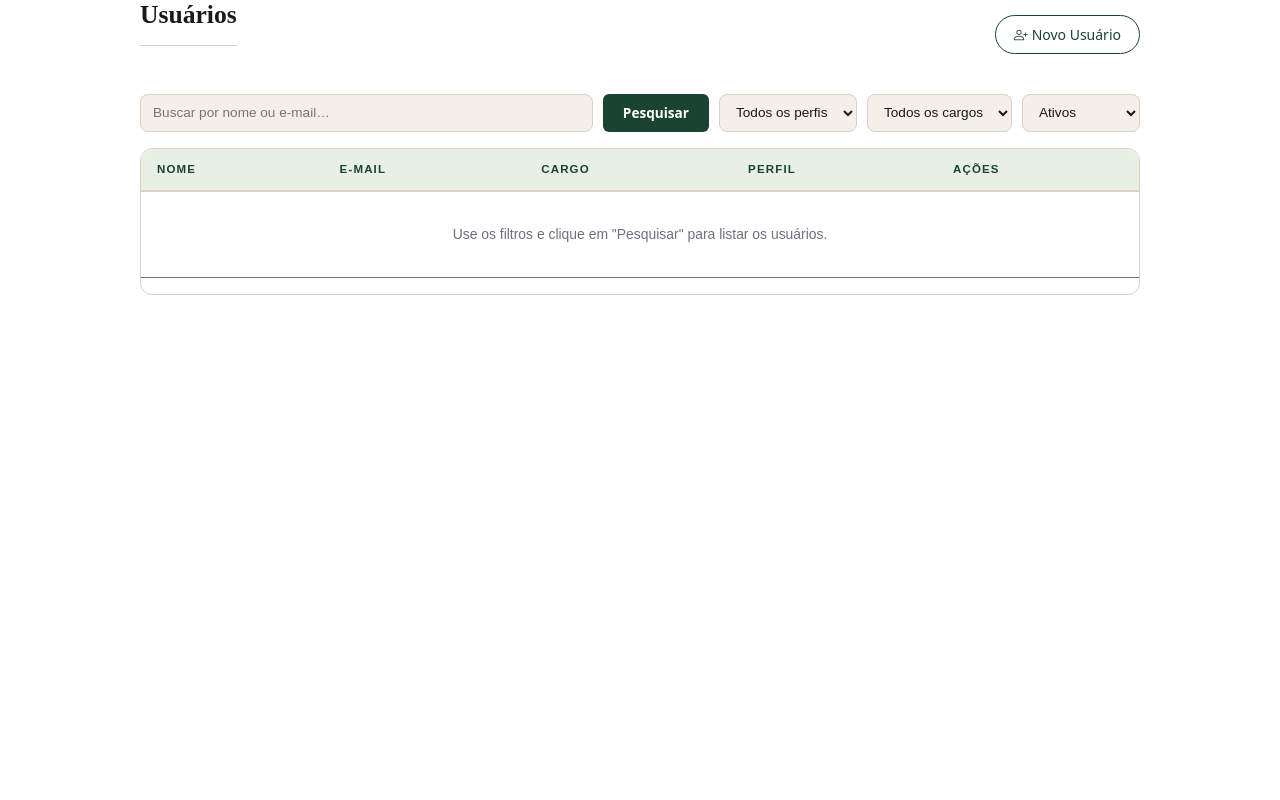
UserList — restaurar desacoplado do e-mail › excluído COM e-mail abre o ModalConfirm de restauração
Select "Excluídos" in the 3rd dropdown at coordinates (1081, 113), box [1022, 94, 1140, 132]
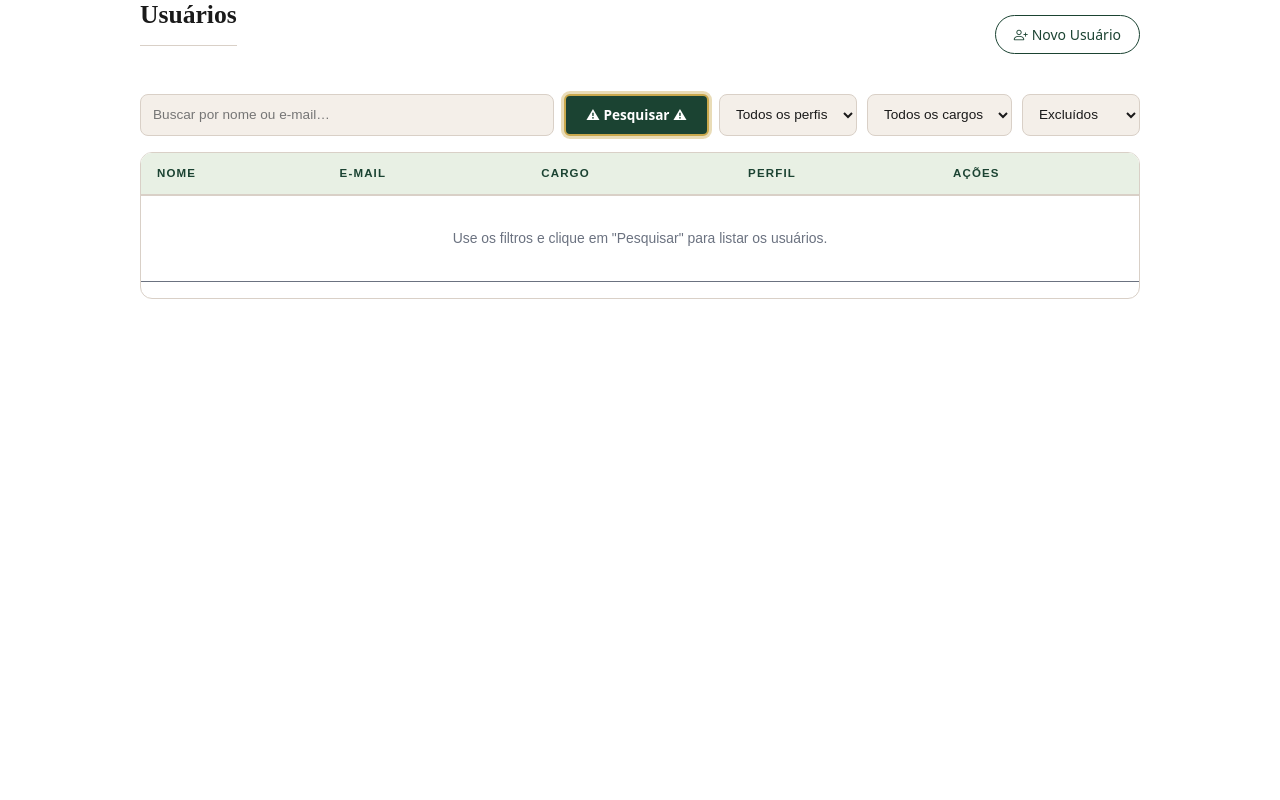
Click the button with class "user-list-btn-filtrar" at coordinates (636, 115), box [564, 94, 709, 136]
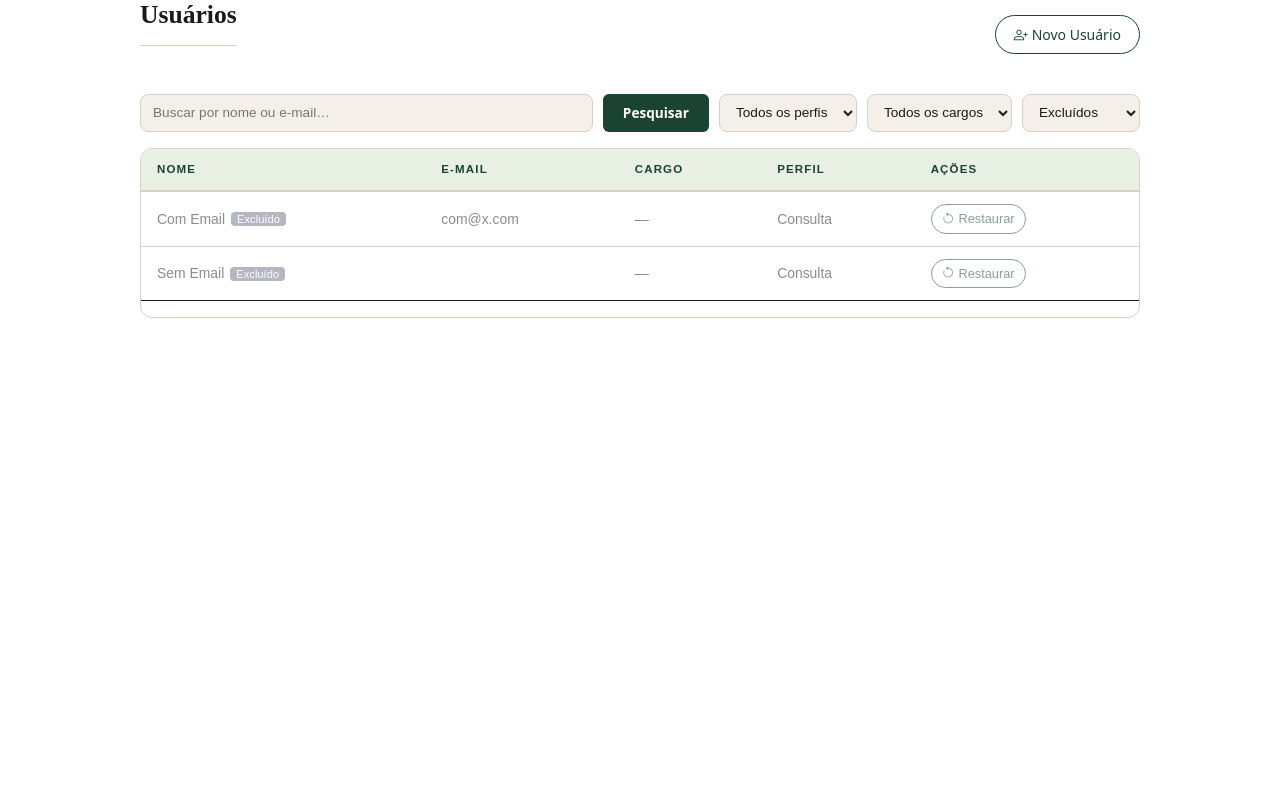
Now the text "Com Email" is shown, box [157, 210, 225, 226]
Click the button with class "btn-acao-editar" in the row of "Com Email" at coordinates (978, 219), box [931, 204, 1026, 234]
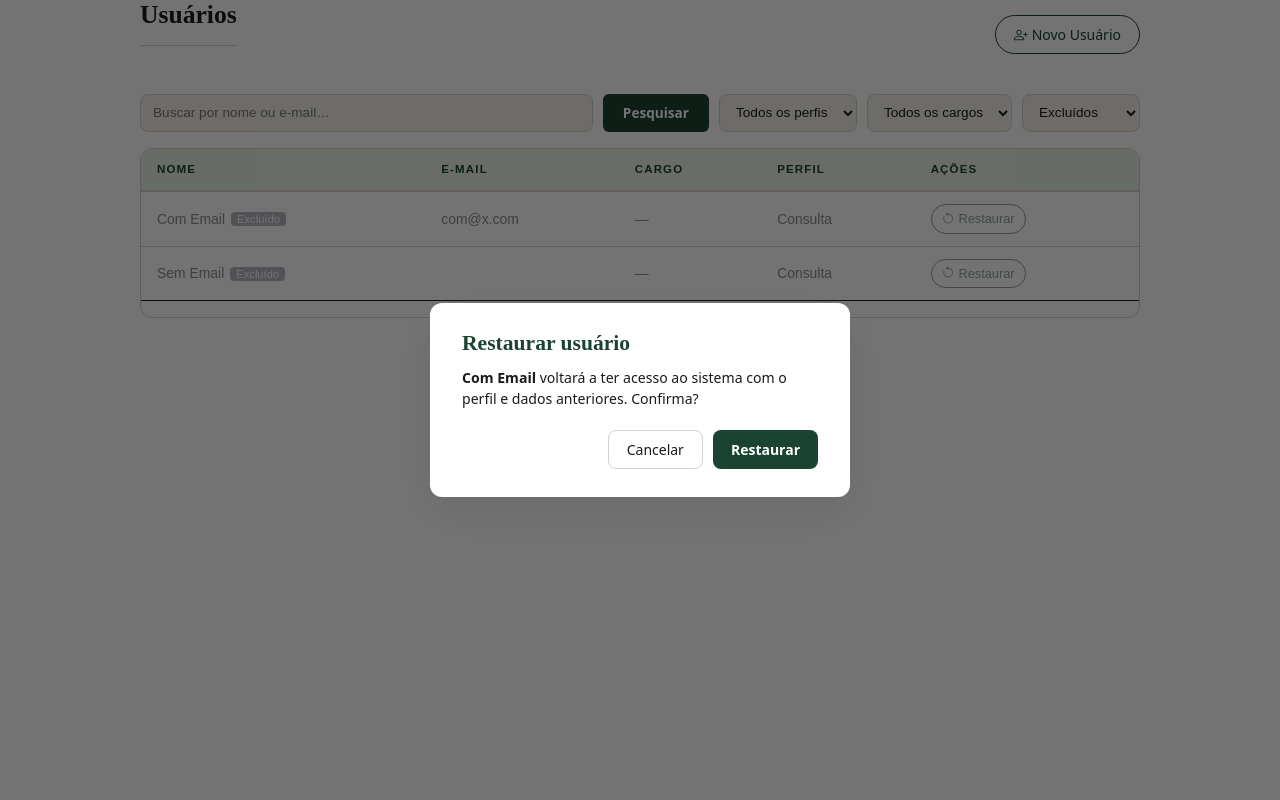
Now the text "voltará a ter acesso ao sistema" is shown, box [462, 368, 787, 408]
